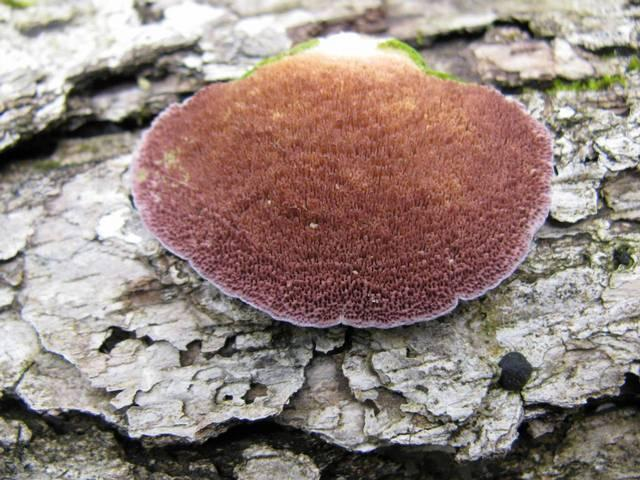poisonous_mushroom: (128, 32, 555, 331)
